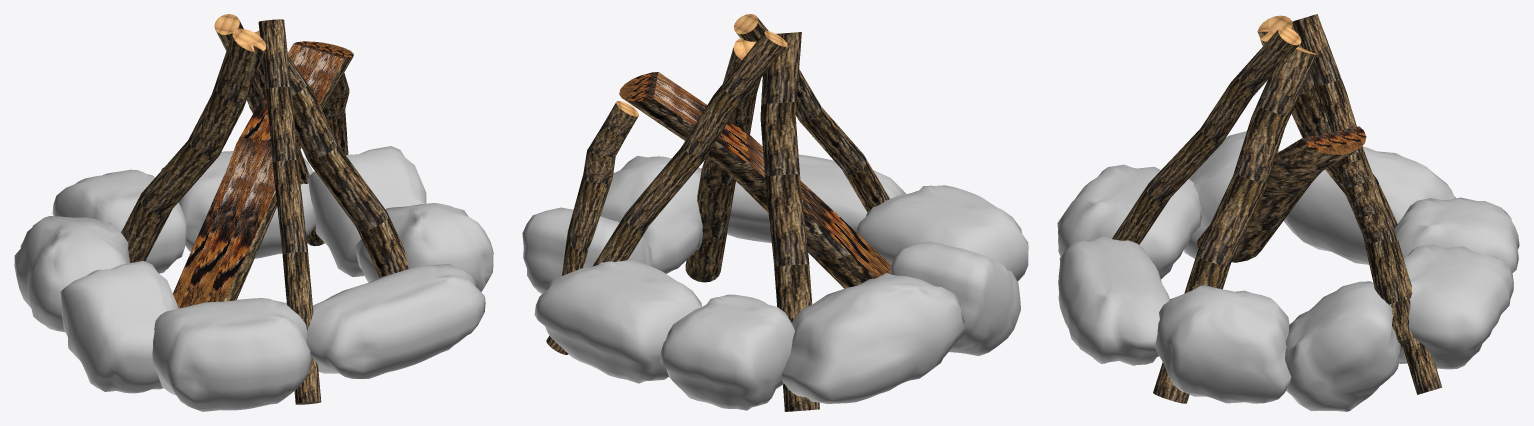
File: Campfire.FBX
3 renders of one model, left to right at view 1: azimuth 30°, elevation 25°; view 2: azimuth 150°, elevation 25°; view 3: azimuth 270°, elevation 25°, orthographic. The views are drawn at different scales.
Parts seen in each view (by area): view 1: Sphere008, Sphere005, Box002, Sphere007, Cylinder001, Cylinder004, Sphere006, Cylinder003, Sphere004, Sphere003, Sphere001, Sphere002 (+2 smaller); view 2: Sphere006, Sphere002, Sphere001, Box002, Cylinder001, Sphere008, Sphere007, Cylinder002, Sphere004, Cylinder003, Cylinder005, Sphere005 (+2 smaller); view 3: Sphere004, Sphere003, Sphere005, Sphere002, Cylinder003, Sphere008, Sphere006, Cylinder004, Box002, Sphere001, Cylinder002, Cylinder005 (+2 smaller).
Part boxes in pixels (box(x1,y1,x2,y2)): Sphere008: box(152, 298, 310, 411); Sphere005: box(306, 264, 485, 378); Box002: box(173, 41, 353, 308); Sphere007: box(60, 261, 178, 393); Cylinder001: box(121, 28, 265, 262); Cylinder004: box(258, 19, 321, 404); Sphere006: box(14, 216, 130, 332); Cylinder003: box(254, 31, 408, 277); Sphere004: box(356, 203, 493, 291); Sphere003: box(308, 146, 426, 276); Sphere001: box(52, 169, 186, 273); Sphere002: box(161, 151, 315, 258); Sphere006: box(781, 273, 964, 403); Sphere002: box(534, 259, 701, 383); Sphere001: box(660, 294, 794, 410); Box002: box(619, 72, 890, 288); Cylinder001: box(760, 32, 819, 411); Sphere008: box(856, 185, 1028, 281); Sphere007: box(890, 241, 1020, 355); Cylinder002: box(546, 31, 787, 354); Sphere004: box(600, 156, 702, 273); Cylinder003: box(685, 38, 761, 282); Cylinder005: box(562, 101, 638, 275); Sphere005: box(701, 154, 905, 243); Sphere004: box(1155, 285, 1291, 403); Sphere003: box(1285, 281, 1400, 411); Sphere005: box(1058, 236, 1169, 365); Sphere002: box(1398, 244, 1513, 369); Cylinder003: box(1153, 46, 1317, 403); Sphere008: box(1057, 164, 1201, 279); Sphere006: box(1284, 146, 1455, 264); Cylinder004: box(1112, 26, 1301, 244); Box002: box(1197, 126, 1366, 262); Sphere001: box(1394, 197, 1519, 272); Cylinder002: box(1292, 14, 1442, 394); Cylinder005: box(1336, 159, 1410, 346).
Bounding box in the file's own units: 52.22 × 39.56 × 51.02.
